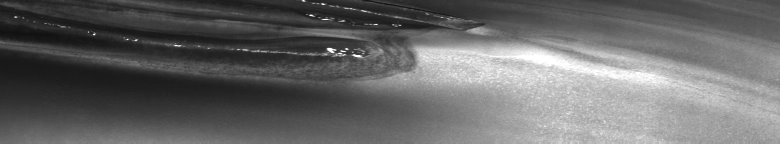ke: (4, 4, 605, 84)
